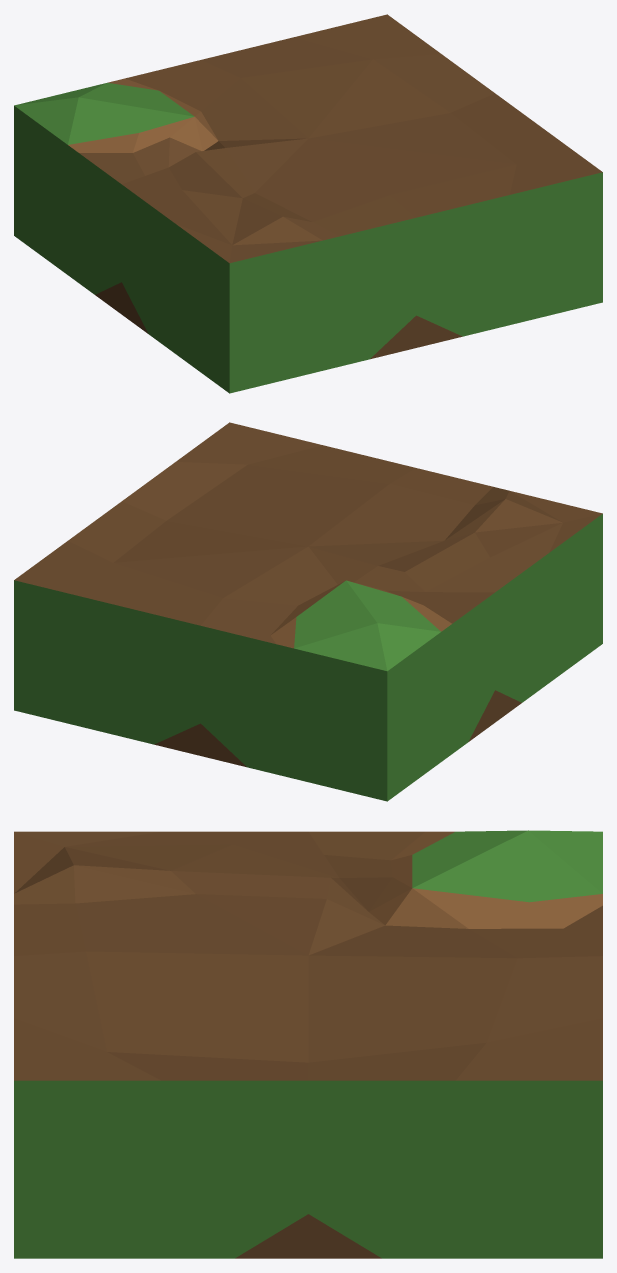
The model's file is grass_dirt_corner_3.fbx.
The picture shows the model from 3 angles, top to bottom: view 1: azimuth 30°, elevation 25°; view 2: azimuth 150°, elevation 25°; view 3: azimuth 270°, elevation 25°; orthographic projection. The views are drawn at different scales.
Parts seen in each view (by area): view 1: Dirt_Grass_Corner_3; view 2: Dirt_Grass_Corner_3; view 3: Dirt_Grass_Corner_3.
Part boxes in pixels (left/top/right/bottom): Dirt_Grass_Corner_3: left=14, top=14, right=602, bottom=393; Dirt_Grass_Corner_3: left=14, top=422, right=602, bottom=801; Dirt_Grass_Corner_3: left=14, top=830, right=602, bottom=1258.
Size of the model in its own units: 300 by 146 by 300.
